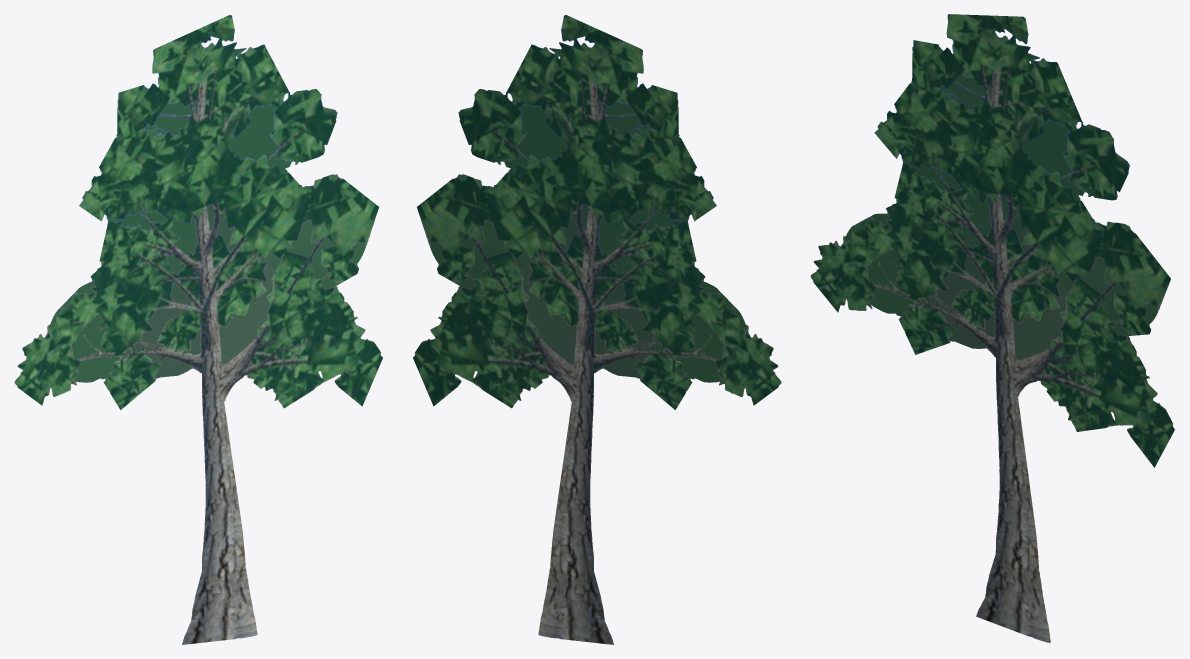
File: billboard.glb
3 views of the same model, side by side, from view 1: azimuth 30°, elevation 25°; view 2: azimuth 150°, elevation 25°; view 3: azimuth 330°, elevation 25° (orthographic).
Parts seen in each view (by area): view 1: Billboard; view 2: Billboard; view 3: Billboard.
Boxes of the visible parts, x1=… form: Billboard: x1=14, y1=15, x2=382, y2=644; Billboard: x1=413, y1=15, x2=781, y2=644; Billboard: x1=810, y1=14, x2=1174, y2=642.
Bounding box in the file's own units: 0.5436 × 0.8844 × 0.
1 material, 1 textured.
